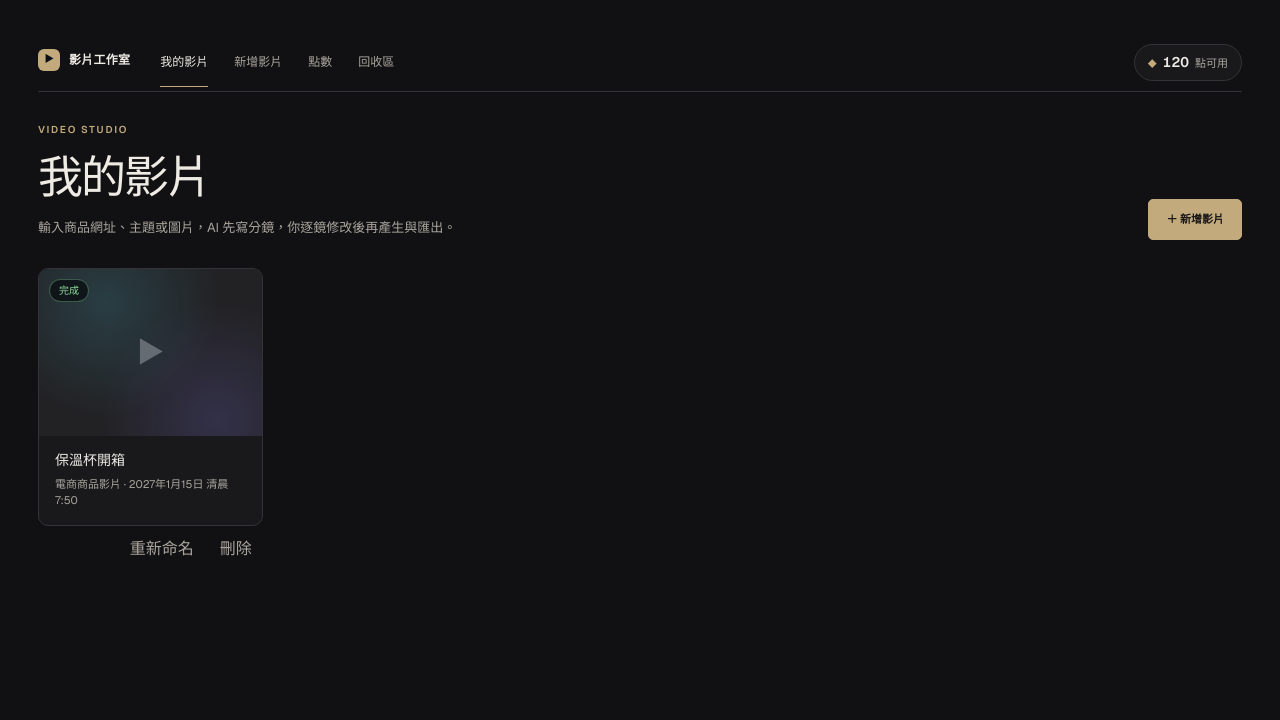
Test: delete from the list › keeps the video and says why when it is busy
The width and height of the screenshot is (1280, 720).
Click the button with aria-label "刪除「保溫杯開箱」". click: (236, 549)
box: [209,532,263,566]
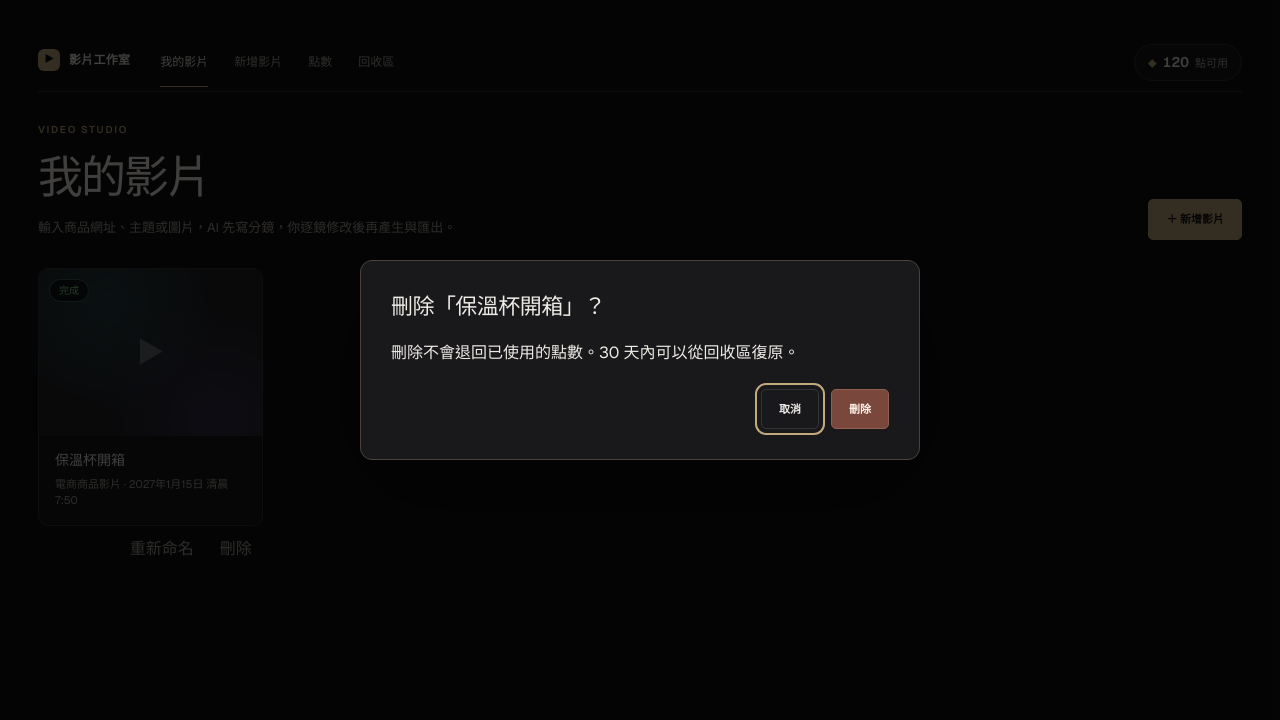
Click the button "刪除". click: (860, 409)
box: [831,389,889,429]
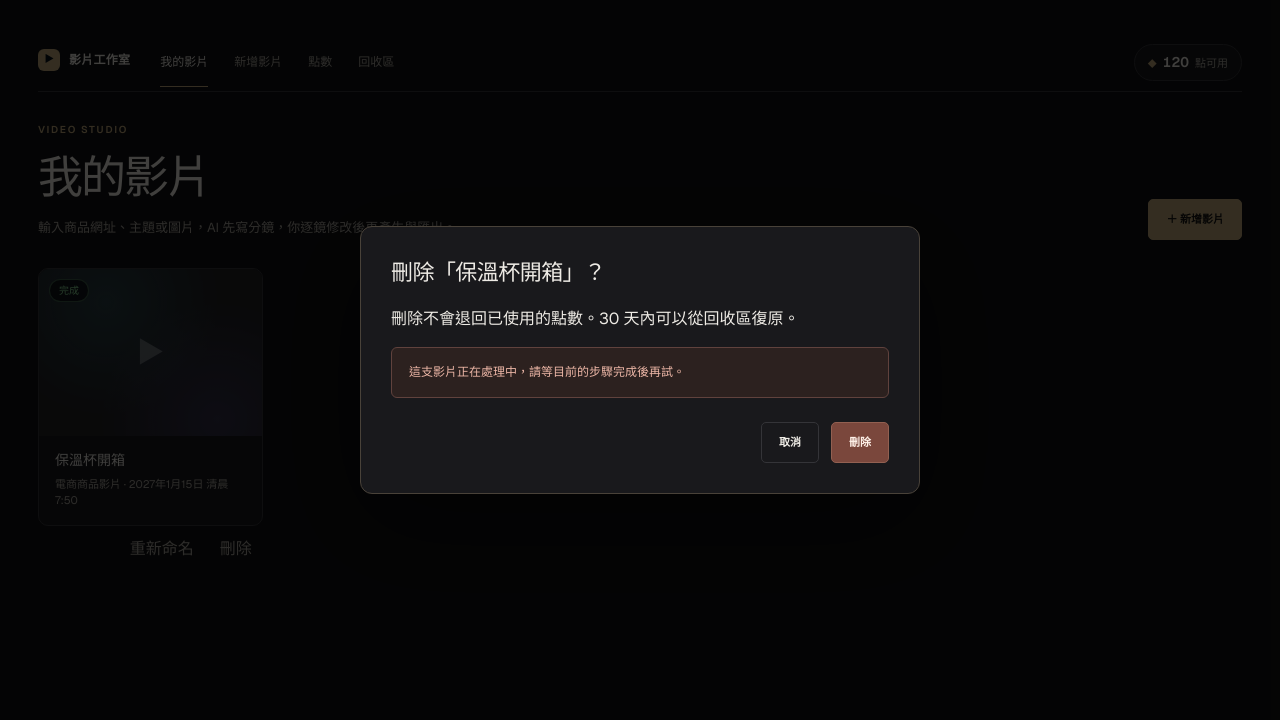
Check: the link "▶ 完成 保溫杯開箱 電商商品影片 · 2027年1月15日 清晨7:50" is shown, box [38,268,263,526]
Check: the message shows "正在處理中", box [409,364,685,380]
